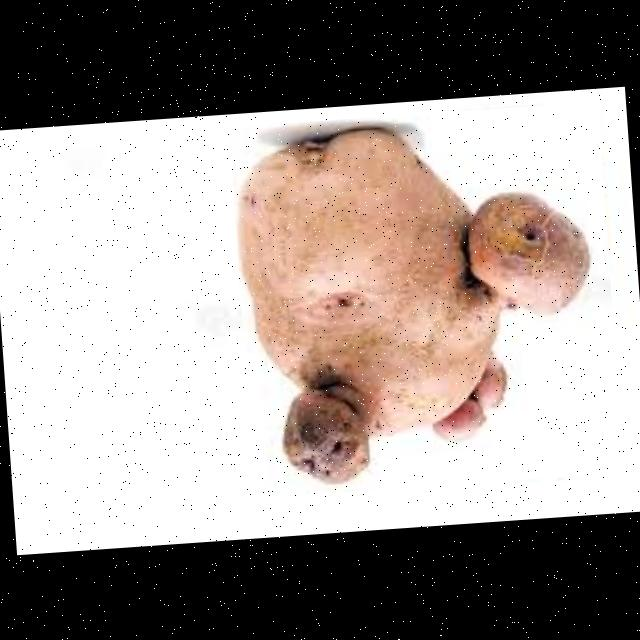Damaged potato: (228, 100, 622, 497)
